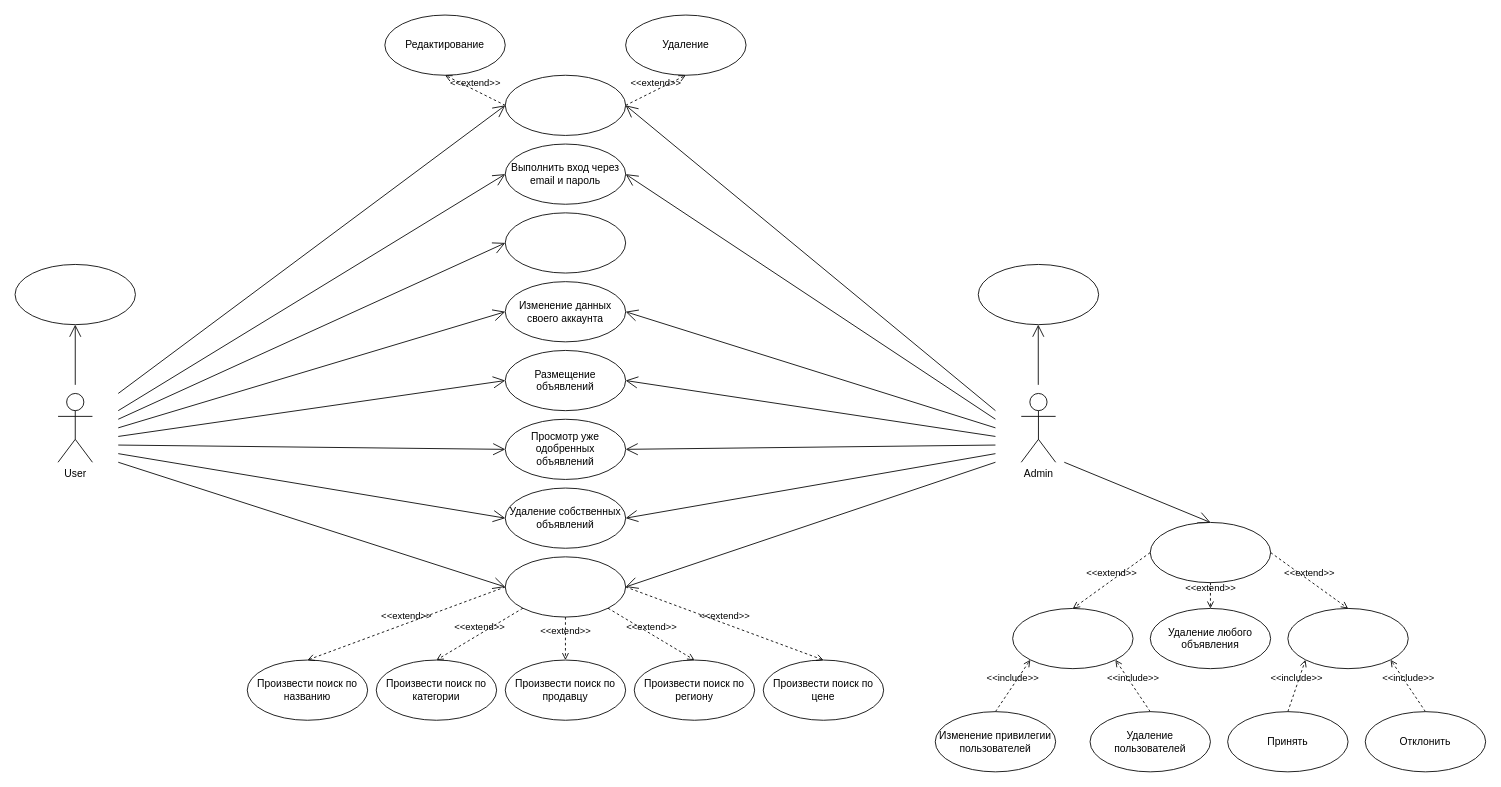
The diagram is 1501 pixels wide and 787 high, and some of its shapes have lost their labels. The box of each missing label's shape, as (x1, y1, x2, y2) in pixels:
Выполнить вход через "ВКонтакте": (504, 212, 626, 273)
Выполнить фильтрацию объявлений: (504, 556, 626, 617)
Зарегистрироватся: (14, 264, 135, 325)
Отправить письмо на электронную почту: (977, 264, 1099, 325)
Просмотр данных всех пользователей: (1012, 608, 1133, 669)
Просмотр неодобренного объявления: (1287, 608, 1408, 669)
Просмотреть панель администратора: (1149, 522, 1271, 583)
Управление собственными объявлениями: (504, 74, 626, 135)
